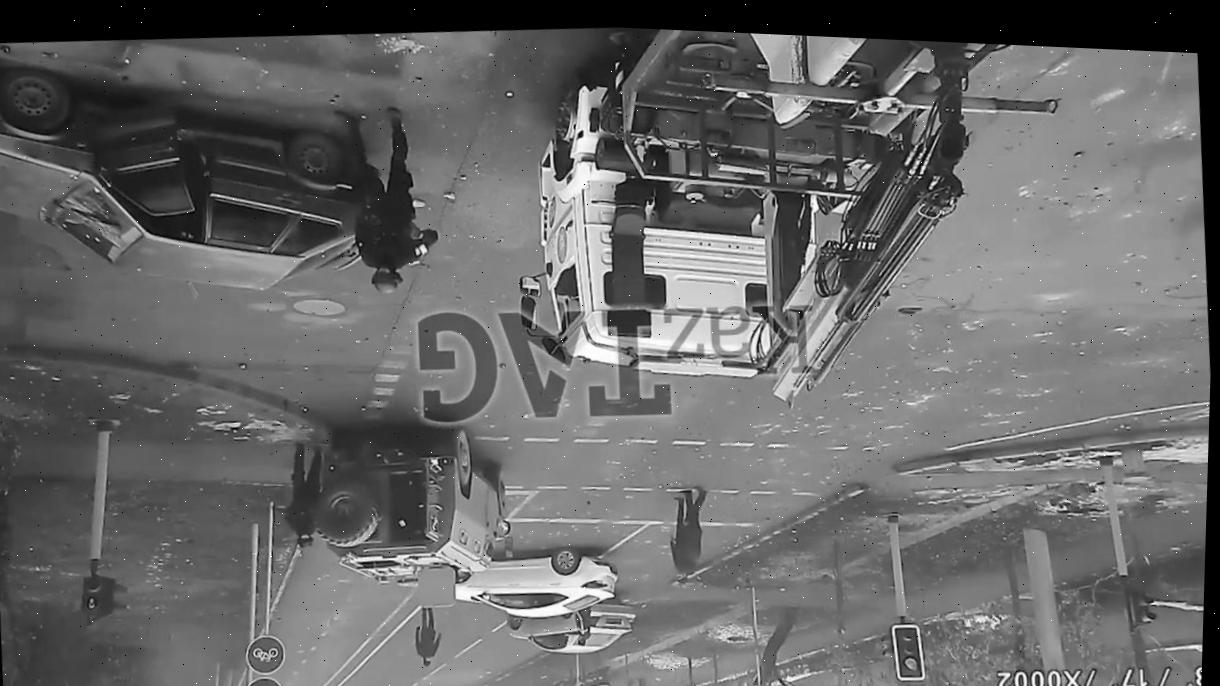armored_car: (303, 416, 519, 618)
car: (0, 44, 387, 313), (440, 536, 621, 626), (498, 598, 641, 670)
person: (328, 98, 447, 297), (279, 438, 329, 548), (674, 483, 713, 572), (664, 494, 699, 585), (410, 605, 444, 667), (571, 602, 591, 646)
